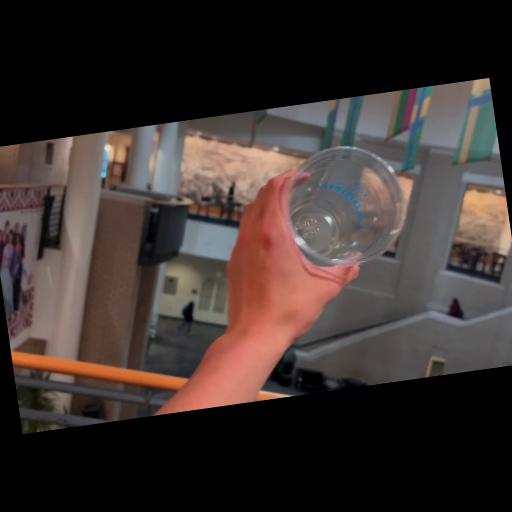lp_plastic_cup: (277, 142, 410, 276)
